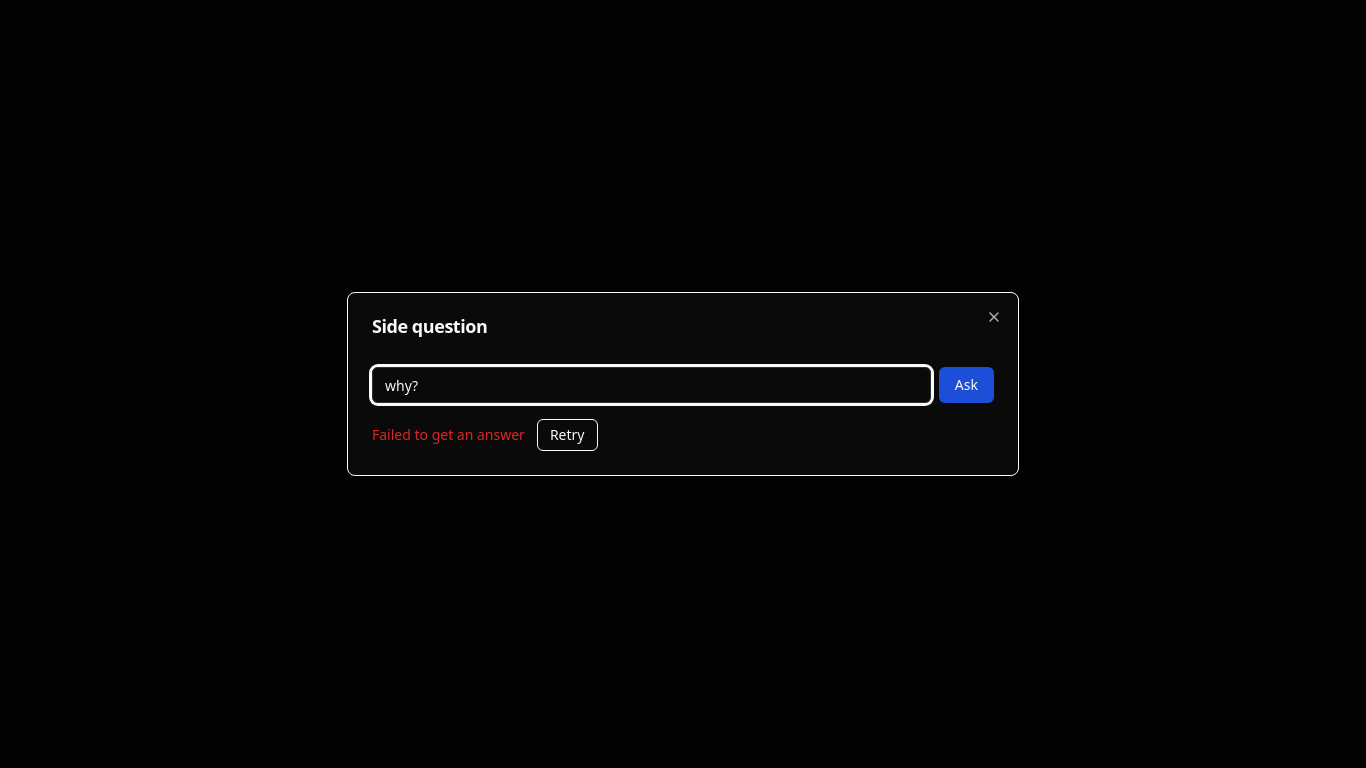
Test: SideQuestionDialog › shows Retry on failure and asks again when clicked
Expected: the text "Failed to get an answer" is shown, [372,425,525,445]
Click the button "Retry" at (567, 435), box [537,419,598,451]
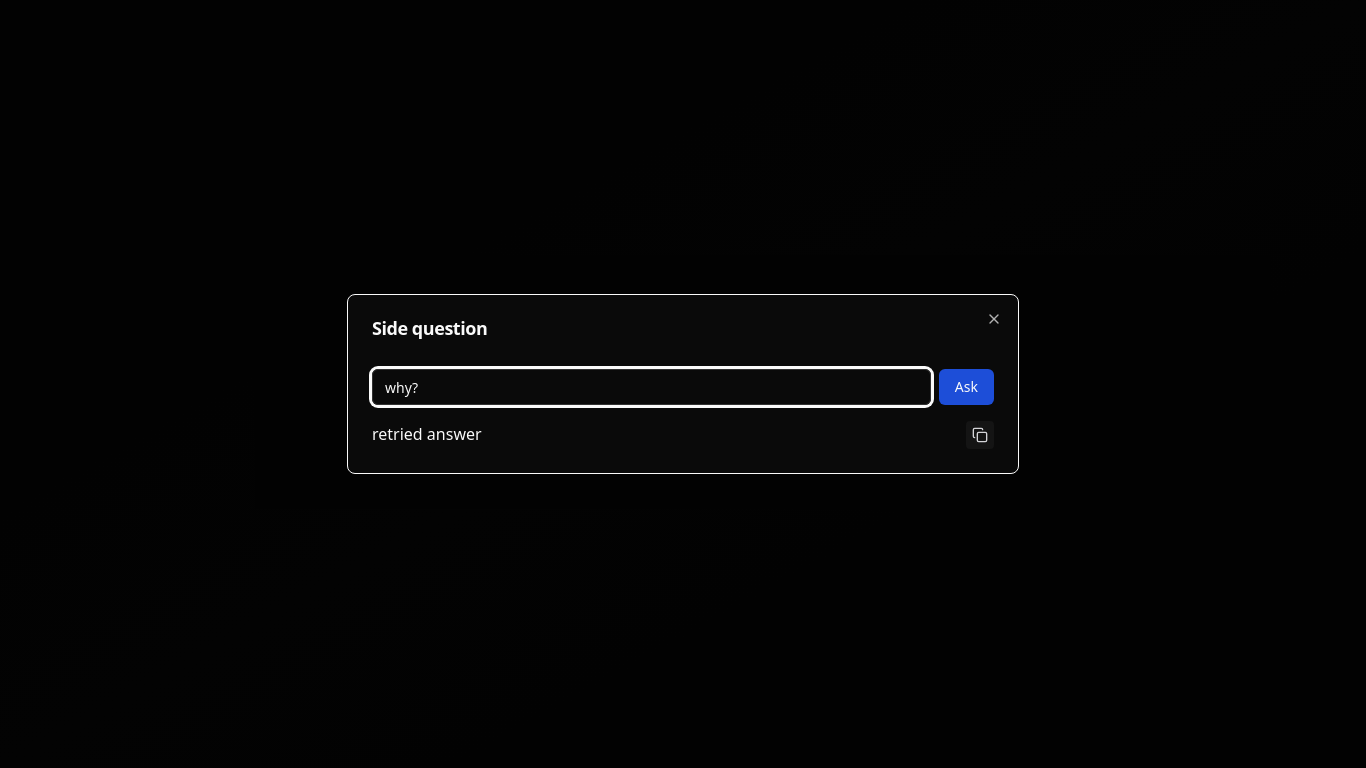
Result: the text "retried answer" is shown at [372,423,482,445]
